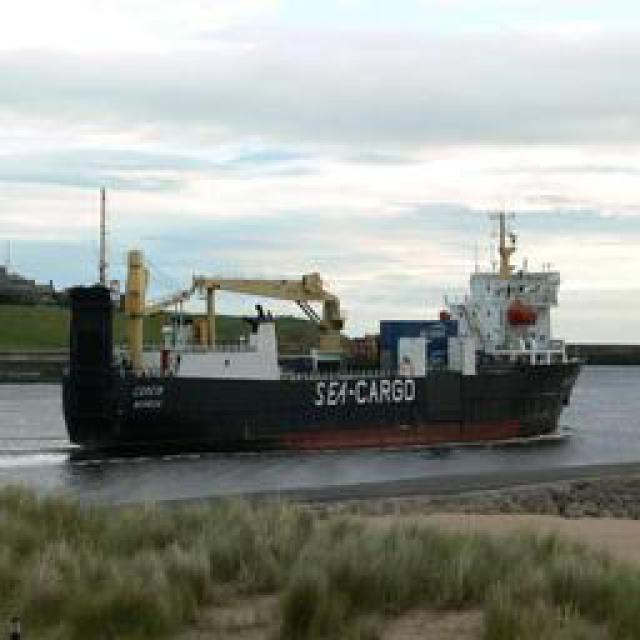Ship: (67, 224, 590, 454)
